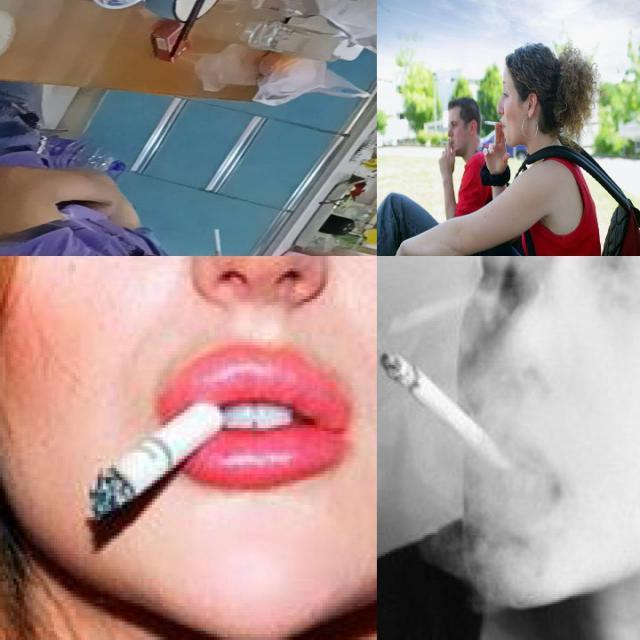smoke: (88, 402, 224, 518), (379, 350, 502, 468), (484, 116, 504, 136), (214, 228, 222, 256)
